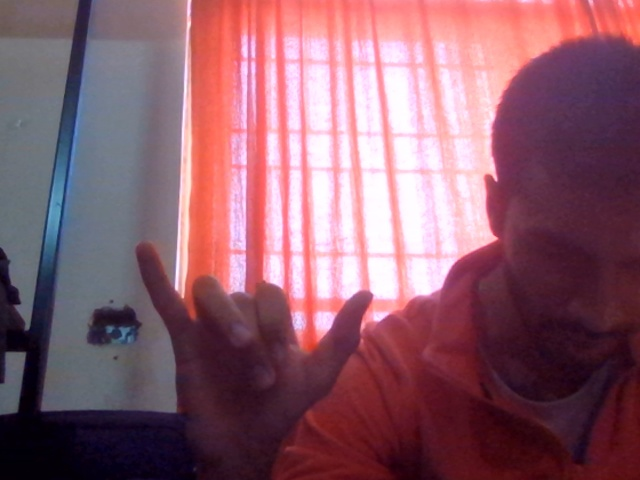Y: (103, 223, 411, 461)
